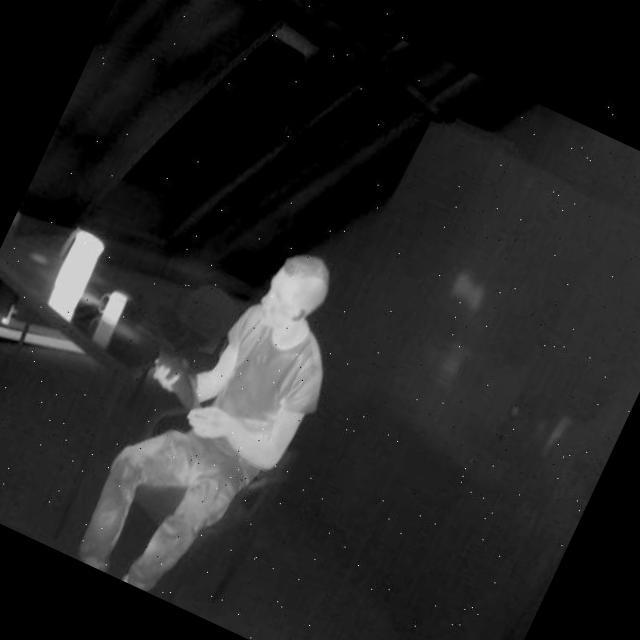person: (62, 205, 378, 624)
